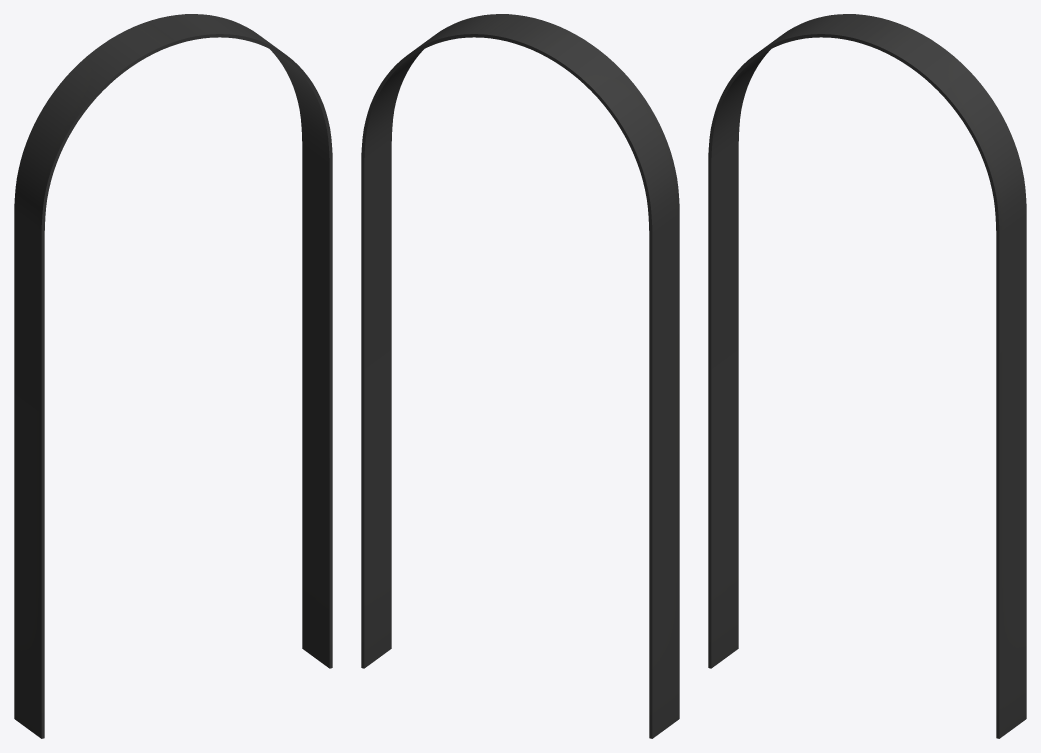
File: door_frame.glb
3 renders of one model, left to right at view 1: azimuth 30°, elevation 25°; view 2: azimuth 150°, elevation 25°; view 3: azimuth 330°, elevation 25°, orthographic.
Parts seen in each view (by area): view 1: door_frame_C; view 2: door_frame_C; view 3: door_frame_C.
Boxes of the visible parts, x1=… form: door_frame_C: x1=14, y1=14, x2=332, y2=738; door_frame_C: x1=361, y1=14, x2=679, y2=738; door_frame_C: x1=708, y1=14, x2=1026, y2=738.
Bounding box in the file's own units: 0.92 × 2.01 × 0.15.
1 material, 1 textured.
